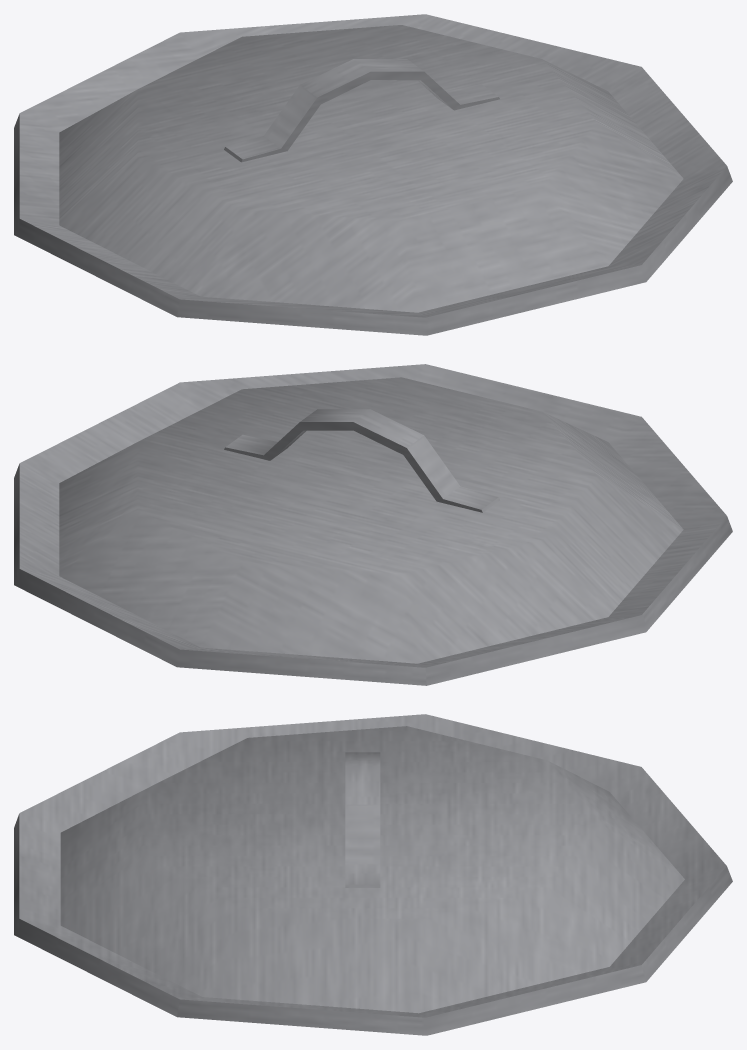
Rendered from Pot_lid_02.glb.
3 renders of one model, top to bottom at view 1: azimuth 30°, elevation 25°; view 2: azimuth 150°, elevation 25°; view 3: azimuth 270°, elevation 25°, orthographic.
Parts seen in each view (by area): view 1: Pot_lid_02; view 2: Pot_lid_02; view 3: Pot_lid_02.
Part boxes in pixels (x1,y1,x2,y2): Pot_lid_02: (14, 14, 732, 335); Pot_lid_02: (14, 364, 732, 685); Pot_lid_02: (14, 714, 732, 1035).
Size of the model in its own units: 0.2862 by 0.0572 by 0.2818.
1 material, 1 textured.
